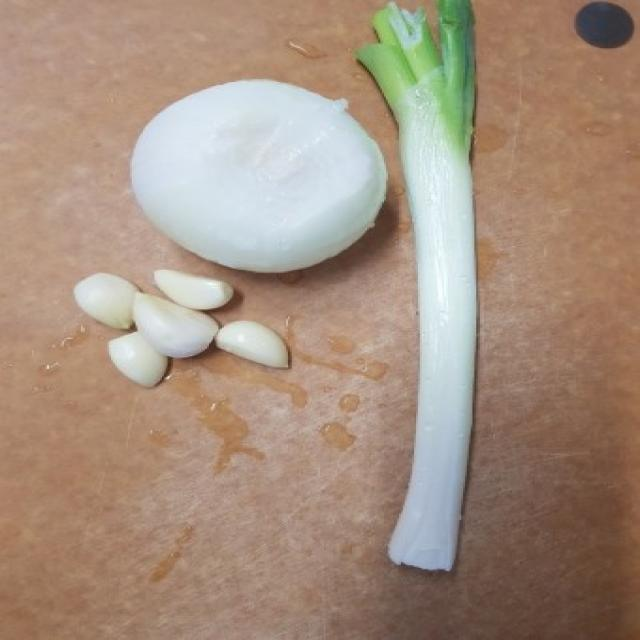onion: (117, 60, 402, 296)
